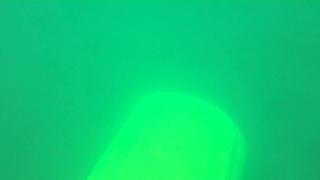pipe: (86, 91, 247, 180)
